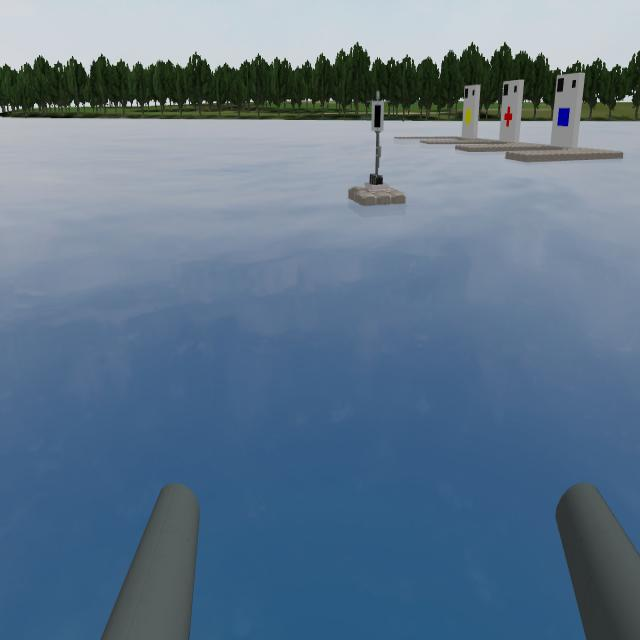black_pole: (364, 86, 392, 135)
